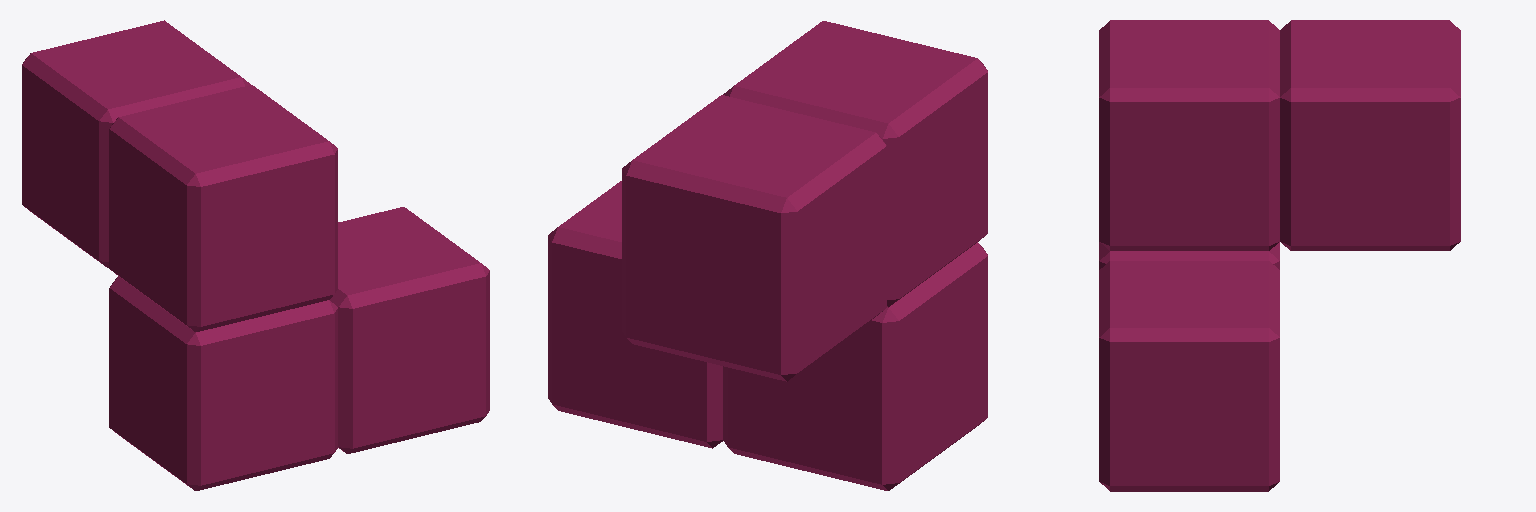
--- Facts derived from the render (not from the file) ---
The picture shows the robot from 3 angles, left to right: view 1: azimuth 30°, elevation 25°; view 2: azimuth 150°, elevation 25°; view 3: azimuth 270°, elevation 25°; orthographic projection.
Model obj_7 with 1 links and 0 joints (none), rooted at obj_7_link, posed all joints at 0.
Links seen in each view (by area): view 1: obj_7_link; view 2: obj_7_link; view 3: obj_7_link.
Link boxes in pixels (<box>): obj_7_link: <box>22,20,489,490</box>; obj_7_link: <box>548,21,987,490</box>; obj_7_link: <box>1099,20,1460,491</box>.
Size in the robot's own frame: 0.25 by 0.25 by 0.25 metres.
Meshes: 1 distinct files referenced, 1 mesh visuals loaded (1 OBJ).

URDF robot description (obj_7):
<robot name="obj_7" version="1.0">
  <link name="obj_7_link">
    <collision name="obj_7-collision.001">
      <origin rpy="-0.00000 1.57080 0.00000" xyz="-0.60798 0.77608 0.06454"/>
      <geometry>
        <mesh filename="../meshes/obj/obj_7-collision.001.obj" scale="1.00000 1.00000 1.00000"/>
      </geometry>
    </collision>
    <collision name="obj_7-collision.002">
      <origin rpy="-3.14159 0.00000 1.57080" xyz="-0.67048 0.77608 0.00204"/>
      <geometry>
        <mesh filename="../meshes/obj/obj_7-collision.002.obj" scale="1.00000 1.00000 1.00000"/>
      </geometry>
    </collision>
    <collision name="obj_7-collision.003">
      <origin rpy="2.35619 -0.00000 1.57080" xyz="-0.61173 0.77608 0.00579"/>
      <geometry>
        <mesh filename="../meshes/obj/obj_7-collision.003.obj" scale="1.00000 1.00000 1.00000"/>
      </geometry>
    </collision>
    <collision name="obj_7-collision.004">
      <origin rpy="-3.14159 -0.78540 1.57080" xyz="-0.67048 0.83483 0.00579"/>
      <geometry>
        <mesh filename="../meshes/obj/obj_7-collision.004.obj" scale="1.00000 1.00000 1.00000"/>
      </geometry>
    </collision>
    <collision name="obj_7-collision.005">
      <origin rpy="-2.35619 0.00000 1.57080" xyz="-0.72923 0.77608 0.00579"/>
      <geometry>
        <mesh filename="../meshes/obj/obj_7-collision.005.obj" scale="1.00000 1.00000 1.00000"/>
      </geometry>
    </collision>
    <collision name="obj_7-collision.006">
      <origin rpy="-3.14159 0.78540 1.57080" xyz="-0.67048 0.71733 0.00579"/>
      <geometry>
        <mesh filename="../meshes/obj/obj_7-collision.006.obj" scale="1.00000 1.00000 1.00000"/>
      </geometry>
    </collision>
    <collision name="obj_7-collision.007">
      <origin rpy="-1.57080 0.00000 -0.78540" xyz="-0.61173 0.83483 0.06454"/>
      <geometry>
        <mesh filename="../meshes/obj/obj_7-collision.007.obj" scale="1.00000 1.00000 1.00000"/>
      </geometry>
    </collision>
    <collision name="obj_7-collision.008">
      <origin rpy="-1.57080 0.00000 -0.00000" xyz="-0.67048 0.83858 0.06454"/>
      <geometry>
        <mesh filename="../meshes/obj/obj_7-collision.008.obj" scale="1.00000 1.00000 1.00000"/>
      </geometry>
    </collision>
    <collision name="obj_7-collision.009">
      <origin rpy="-1.57080 0.00000 0.78540" xyz="-0.72923 0.83483 0.06454"/>
      <geometry>
        <mesh filename="../meshes/obj/obj_7-collision.009.obj" scale="1.00000 1.00000 1.00000"/>
      </geometry>
    </collision>
    <collision name="obj_7-collision.010">
      <origin rpy="1.57080 0.00000 -0.78540" xyz="-0.72923 0.71733 0.06454"/>
      <geometry>
        <mesh filename="../meshes/obj/obj_7-collision.010.obj" scale="1.00000 1.00000 1.00000"/>
      </geometry>
    </collision>
    <collision name="obj_7-collision.011">
      <origin rpy="1.57080 0.00000 0.00000" xyz="-0.67048 0.71358 0.06454"/>
      <geometry>
        <mesh filename="../meshes/obj/obj_7-collision.011.obj" scale="1.00000 1.00000 1.00000"/>
      </geometry>
    </collision>
    <collision name="obj_7-collision.012">
      <origin rpy="1.57080 0.00000 0.78540" xyz="-0.61173 0.71733 0.06454"/>
      <geometry>
        <mesh filename="../meshes/obj/obj_7-collision.012.obj" scale="1.00000 1.00000 1.00000"/>
      </geometry>
    </collision>
    <collision name="obj_7-collision.013">
      <origin rpy="-0.78540 0.00000 -1.57080" xyz="-0.61173 0.77608 0.12329"/>
      <geometry>
        <mesh filename="../meshes/obj/obj_7-collision.013.obj" scale="1.00000 1.00000 1.00000"/>
      </geometry>
    </collision>
    <collision name="obj_7-collision.014">
      <origin rpy="-0.00000 -0.78540 -1.57080" xyz="-0.67048 0.83483 0.12329"/>
      <geometry>
        <mesh filename="../meshes/obj/obj_7-collision.014.obj" scale="1.00000 1.00000 1.00000"/>
      </geometry>
    </collision>
    <collision name="obj_7-collision.015">
      <origin rpy="0.78540 -0.00000 -1.57080" xyz="-0.72923 0.77608 0.12329"/>
      <geometry>
        <mesh filename="../meshes/obj/obj_7-collision.015.obj" scale="1.00000 1.00000 1.00000"/>
      </geometry>
    </collision>
    <collision name="obj_7-collision.016">
      <origin rpy="-0.00000 0.78540 -1.57080" xyz="-0.67048 0.71733 0.12329"/>
      <geometry>
        <mesh filename="../meshes/obj/obj_7-collision.016.obj" scale="1.00000 1.00000 1.00000"/>
      </geometry>
    </collision>
    <collision name="obj_7-collision.017">
      <origin rpy="0.00000 -0.00000 3.14159" xyz="-0.67048 0.77608 0.12704"/>
      <geometry>
        <mesh filename="../meshes/obj/obj_7-collision.017.obj" scale="1.00000 1.00000 1.00000"/>
      </geometry>
    </collision>
    <collision name="obj_7-collision.018">
      <origin rpy="-3.14159 0.00000 1.57080" xyz="-0.79548 0.77608 0.00204"/>
      <geometry>
        <mesh filename="../meshes/obj/obj_7-collision.018.obj" scale="1.00000 1.00000 1.00000"/>
      </geometry>
    </collision>
    <collision name="obj_7-collision.019">
      <origin rpy="-3.14159 -0.78540 1.57080" xyz="-0.79548 0.83483 0.00579"/>
      <geometry>
        <mesh filename="../meshes/obj/obj_7-collision.019.obj" scale="1.00000 1.00000 1.00000"/>
      </geometry>
    </collision>
    <collision name="obj_7-collision.020">
      <origin rpy="2.35619 -0.00000 1.57080" xyz="-0.73673 0.77608 0.00579"/>
      <geometry>
        <mesh filename="../meshes/obj/obj_7-collision.020.obj" scale="1.00000 1.00000 1.00000"/>
      </geometry>
    </collision>
    <collision name="obj_7-collision.021">
      <origin rpy="-3.14159 0.78540 1.57080" xyz="-0.79548 0.71733 0.00579"/>
      <geometry>
        <mesh filename="../meshes/obj/obj_7-collision.021.obj" scale="1.00000 1.00000 1.00000"/>
      </geometry>
    </collision>
    <collision name="obj_7-collision.022">
      <origin rpy="-2.35619 -0.00000 1.57080" xyz="-0.85423 0.77608 0.00579"/>
      <geometry>
        <mesh filename="../meshes/obj/obj_7-collision.022.obj" scale="1.00000 1.00000 1.00000"/>
      </geometry>
    </collision>
    <collision name="obj_7-collision.023">
      <origin rpy="1.57080 0.00000 0.00000" xyz="-0.79548 0.71358 0.06454"/>
      <geometry>
        <mesh filename="../meshes/obj/obj_7-collision.023.obj" scale="1.00000 1.00000 1.00000"/>
      </geometry>
    </collision>
    <collision name="obj_7-collision.024">
      <origin rpy="2.35619 -1.57080 0.00000" xyz="-0.73673 0.71733 0.06454"/>
      <geometry>
        <mesh filename="../meshes/obj/obj_7-collision.024.obj" scale="1.00000 1.00000 1.00000"/>
      </geometry>
    </collision>
    <collision name="obj_7-collision.025">
      <origin rpy="-1.57080 0.00000 -0.78540" xyz="-0.73673 0.83483 0.06454"/>
      <geometry>
        <mesh filename="../meshes/obj/obj_7-collision.025.obj" scale="1.00000 1.00000 1.00000"/>
      </geometry>
    </collision>
    <collision name="obj_7-collision.026">
      <origin rpy="-1.57080 0.00000 -0.00000" xyz="-0.79548 0.83858 0.06454"/>
      <geometry>
        <mesh filename="../meshes/obj/obj_7-collision.026.obj" scale="1.00000 1.00000 1.00000"/>
      </geometry>
    </collision>
    <collision name="obj_7-collision.027">
      <origin rpy="-1.57080 0.00000 0.78540" xyz="-0.85423 0.83483 0.06454"/>
      <geometry>
        <mesh filename="../meshes/obj/obj_7-collision.027.obj" scale="1.00000 1.00000 1.00000"/>
      </geometry>
    </collision>
    <collision name="obj_7-collision.028">
      <origin rpy="0.00000 -1.57080 0.00000" xyz="-0.85798 0.77608 0.06454"/>
      <geometry>
        <mesh filename="../meshes/obj/obj_7-collision.028.obj" scale="1.00000 1.00000 1.00000"/>
      </geometry>
    </collision>
    <collision name="obj_7-collision.029">
      <origin rpy="-1.57080 -0.00000 2.35619" xyz="-0.85423 0.71733 0.06454"/>
      <geometry>
        <mesh filename="../meshes/obj/obj_7-collision.029.obj" scale="1.00000 1.00000 1.00000"/>
      </geometry>
    </collision>
    <collision name="obj_7-collision.030">
      <origin rpy="-0.00000 0.78540 -1.57080" xyz="-0.79548 0.71733 0.12329"/>
      <geometry>
        <mesh filename="../meshes/obj/obj_7-collision.030.obj" scale="1.00000 1.00000 1.00000"/>
      </geometry>
    </collision>
    <collision name="obj_7-collision.031">
      <origin rpy="-0.78540 0.00000 -1.57080" xyz="-0.73673 0.77608 0.12329"/>
      <geometry>
        <mesh filename="../meshes/obj/obj_7-collision.031.obj" scale="1.00000 1.00000 1.00000"/>
      </geometry>
    </collision>
    <collision name="obj_7-collision.032">
      <origin rpy="-0.00000 -0.78540 -1.57080" xyz="-0.79548 0.83483 0.12329"/>
      <geometry>
        <mesh filename="../meshes/obj/obj_7-collision.032.obj" scale="1.00000 1.00000 1.00000"/>
      </geometry>
    </collision>
    <collision name="obj_7-collision.033">
      <origin rpy="0.78540 -0.00000 -1.57080" xyz="-0.85423 0.77608 0.12329"/>
      <geometry>
        <mesh filename="../meshes/obj/obj_7-collision.033.obj" scale="1.00000 1.00000 1.00000"/>
      </geometry>
    </collision>
    <collision name="obj_7-collision.034">
      <origin rpy="-2.35619 0.00000 1.57080" xyz="-0.85423 0.77608 0.13079"/>
      <geometry>
        <mesh filename="../meshes/obj/obj_7-collision.034.obj" scale="1.00000 1.00000 1.00000"/>
      </geometry>
    </collision>
    <collision name="obj_7-collision.035">
      <origin rpy="-3.14159 0.78540 1.57080" xyz="-0.79548 0.71733 0.13079"/>
      <geometry>
        <mesh filename="../meshes/obj/obj_7-collision.035.obj" scale="1.00000 1.00000 1.00000"/>
      </geometry>
    </collision>
    <collision name="obj_7-collision.036">
      <origin rpy="2.35619 -0.00000 1.57080" xyz="-0.73673 0.77608 0.13079"/>
      <geometry>
        <mesh filename="../meshes/obj/obj_7-collision.036.obj" scale="1.00000 1.00000 1.00000"/>
      </geometry>
    </collision>
    <collision name="obj_7-collision.037">
      <origin rpy="-3.14159 -0.78540 1.57080" xyz="-0.79548 0.83483 0.13079"/>
      <geometry>
        <mesh filename="../meshes/obj/obj_7-collision.037.obj" scale="1.00000 1.00000 1.00000"/>
      </geometry>
    </collision>
    <collision name="obj_7-collision.038">
      <origin rpy="-0.00000 1.57080 0.00000" xyz="-0.73298 0.77608 0.18954"/>
      <geometry>
        <mesh filename="../meshes/obj/obj_7-collision.038.obj" scale="1.00000 1.00000 1.00000"/>
      </geometry>
    </collision>
    <collision name="obj_7-collision.039">
      <origin rpy="-1.57080 -0.00000 -0.78540" xyz="-0.73673 0.83483 0.18954"/>
      <geometry>
        <mesh filename="../meshes/obj/obj_7-collision.039.obj" scale="1.00000 1.00000 1.00000"/>
      </geometry>
    </collision>
    <collision name="obj_7-collision.040">
      <origin rpy="-1.57080 0.00000 0.78540" xyz="-0.85423 0.83483 0.18954"/>
      <geometry>
        <mesh filename="../meshes/obj/obj_7-collision.040.obj" scale="1.00000 1.00000 1.00000"/>
      </geometry>
    </collision>
    <collision name="obj_7-collision.041">
      <origin rpy="0.00000 -1.57080 0.00000" xyz="-0.85798 0.77608 0.18954"/>
      <geometry>
        <mesh filename="../meshes/obj/obj_7-collision.041.obj" scale="1.00000 1.00000 1.00000"/>
      </geometry>
    </collision>
    <collision name="obj_7-collision.042">
      <origin rpy="-1.57080 -0.00000 2.35619" xyz="-0.85423 0.71733 0.18954"/>
      <geometry>
        <mesh filename="../meshes/obj/obj_7-collision.042.obj" scale="1.00000 1.00000 1.00000"/>
      </geometry>
    </collision>
    <collision name="obj_7-collision.043">
      <origin rpy="1.57080 -1.57080 0.00000" xyz="-0.79548 0.71358 0.18954"/>
      <geometry>
        <mesh filename="../meshes/obj/obj_7-collision.043.obj" scale="1.00000 1.00000 1.00000"/>
      </geometry>
    </collision>
    <collision name="obj_7-collision.044">
      <origin rpy="2.35619 -1.57080 0.00000" xyz="-0.73673 0.71733 0.18954"/>
      <geometry>
        <mesh filename="../meshes/obj/obj_7-collision.044.obj" scale="1.00000 1.00000 1.00000"/>
      </geometry>
    </collision>
    <collision name="obj_7-collision.045">
      <origin rpy="-0.78540 0.00000 -1.57080" xyz="-0.73673 0.77608 0.24829"/>
      <geometry>
        <mesh filename="../meshes/obj/obj_7-collision.045.obj" scale="1.00000 1.00000 1.00000"/>
      </geometry>
    </collision>
    <collision name="obj_7-collision.046">
      <origin rpy="-0.00000 0.78540 -1.57080" xyz="-0.79548 0.71733 0.24829"/>
      <geometry>
        <mesh filename="../meshes/obj/obj_7-collision.046.obj" scale="1.00000 1.00000 1.00000"/>
      </geometry>
    </collision>
    <collision name="obj_7-collision.047">
      <origin rpy="0.78540 -0.00000 -1.57080" xyz="-0.85423 0.77608 0.24829"/>
      <geometry>
        <mesh filename="../meshes/obj/obj_7-collision.047.obj" scale="1.00000 1.00000 1.00000"/>
      </geometry>
    </collision>
    <collision name="obj_7-collision.048">
      <origin rpy="-0.00000 -0.78540 -1.57080" xyz="-0.79548 0.83483 0.24829"/>
      <geometry>
        <mesh filename="../meshes/obj/obj_7-collision.048.obj" scale="1.00000 1.00000 1.00000"/>
      </geometry>
    </collision>
    <collision name="obj_7-collision.049">
      <origin rpy="0.00000 -0.00000 3.14159" xyz="-0.79548 0.77608 0.25204"/>
      <geometry>
        <mesh filename="../meshes/obj/obj_7-collision.049.obj" scale="1.00000 1.00000 1.00000"/>
      </geometry>
    </collision>
    <collision name="obj_7-collision.050">
      <origin rpy="-0.00000 0.00000 -1.57080" xyz="-0.79548 0.90108 0.25204"/>
      <geometry>
        <mesh filename="../meshes/obj/obj_7-collision.050.obj" scale="1.00000 1.00000 1.00000"/>
      </geometry>
    </collision>
    <collision name="obj_7-collision.051">
      <origin rpy="-0.00000 0.78540 -1.57080" xyz="-0.79548 0.84233 0.24829"/>
      <geometry>
        <mesh filename="../meshes/obj/obj_7-collision.051.obj" scale="1.00000 1.00000 1.00000"/>
      </geometry>
    </collision>
    <collision name="obj_7-collision.052">
      <origin rpy="0.00000 -0.78540 3.14159" xyz="-0.73673 0.90108 0.24829"/>
      <geometry>
        <mesh filename="../meshes/obj/obj_7-collision.052.obj" scale="1.00000 1.00000 1.00000"/>
      </geometry>
    </collision>
    <collision name="obj_7-collision.053">
      <origin rpy="-0.00000 -0.78540 -1.57080" xyz="-0.79548 0.95983 0.24829"/>
      <geometry>
        <mesh filename="../meshes/obj/obj_7-collision.053.obj" scale="1.00000 1.00000 1.00000"/>
      </geometry>
    </collision>
    <collision name="obj_7-collision.054">
      <origin rpy="0.78540 -0.00000 -1.57080" xyz="-0.85423 0.90108 0.24829"/>
      <geometry>
        <mesh filename="../meshes/obj/obj_7-collision.054.obj" scale="1.00000 1.00000 1.00000"/>
      </geometry>
    </collision>
    <collision name="obj_7-collision.055">
      <origin rpy="-1.57080 0.00000 -0.00000" xyz="-0.79548 0.96358 0.18954"/>
      <geometry>
        <mesh filename="../meshes/obj/obj_7-collision.055.obj" scale="1.00000 1.00000 1.00000"/>
      </geometry>
    </collision>
    <collision name="obj_7-collision.056">
      <origin rpy="0.00000 -1.57080 0.00000" xyz="-0.85798 0.90108 0.18954"/>
      <geometry>
        <mesh filename="../meshes/obj/obj_7-collision.056.obj" scale="1.00000 1.00000 1.00000"/>
      </geometry>
    </collision>
    <collision name="obj_7-collision.057">
      <origin rpy="-0.78540 -1.57080 0.00000" xyz="-0.85423 0.95983 0.18954"/>
      <geometry>
        <mesh filename="../meshes/obj/obj_7-collision.057.obj" scale="1.00000 1.00000 1.00000"/>
      </geometry>
    </collision>
    <collision name="obj_7-collision.058">
      <origin rpy="1.57080 0.00000 -0.78540" xyz="-0.85423 0.84233 0.18954"/>
      <geometry>
        <mesh filename="../meshes/obj/obj_7-collision.058.obj" scale="1.00000 1.00000 1.00000"/>
      </geometry>
    </collision>
    <collision name="obj_7-collision.059">
      <origin rpy="1.57080 0.00000 0.78540" xyz="-0.73673 0.84233 0.18954"/>
      <geometry>
        <mesh filename="../meshes/obj/obj_7-collision.059.obj" scale="1.00000 1.00000 1.00000"/>
      </geometry>
    </collision>
    <collision name="obj_7-collision.060">
      <origin rpy="1.57080 0.00000 1.57080" xyz="-0.73298 0.90108 0.18954"/>
      <geometry>
        <mesh filename="../meshes/obj/obj_7-collision.060.obj" scale="1.00000 1.00000 1.00000"/>
      </geometry>
    </collision>
    <collision name="obj_7-collision.061">
      <origin rpy="-2.35619 -1.57080 0.00000" xyz="-0.73673 0.95983 0.18954"/>
      <geometry>
        <mesh filename="../meshes/obj/obj_7-collision.061.obj" scale="1.00000 1.00000 1.00000"/>
      </geometry>
    </collision>
    <collision name="obj_7-collision.062">
      <origin rpy="2.35619 -0.00000 1.57080" xyz="-0.73673 0.90108 0.13079"/>
      <geometry>
        <mesh filename="../meshes/obj/obj_7-collision.062.obj" scale="1.00000 1.00000 1.00000"/>
      </geometry>
    </collision>
    <collision name="obj_7-collision.063">
      <origin rpy="-3.14159 -0.78540 1.57080" xyz="-0.79548 0.95983 0.13079"/>
      <geometry>
        <mesh filename="../meshes/obj/obj_7-collision.063.obj" scale="1.00000 1.00000 1.00000"/>
      </geometry>
    </collision>
    <collision name="obj_7-collision.064">
      <origin rpy="-2.35619 0.00000 1.57080" xyz="-0.85423 0.90108 0.13079"/>
      <geometry>
        <mesh filename="../meshes/obj/obj_7-collision.064.obj" scale="1.00000 1.00000 1.00000"/>
      </geometry>
    </collision>
    <collision name="obj_7-collision.065">
      <origin rpy="-3.14159 0.78540 1.57080" xyz="-0.79548 0.84233 0.13079"/>
      <geometry>
        <mesh filename="../meshes/obj/obj_7-collision.065.obj" scale="1.00000 1.00000 1.00000"/>
      </geometry>
    </collision>
    <collision name="obj_7-collision.066">
      <origin rpy="-3.14159 0.00000 1.57080" xyz="-0.79548 0.90108 0.12704"/>
      <geometry>
        <mesh filename="../meshes/obj/obj_7-collision.066.obj" scale="1.00000 1.00000 1.00000"/>
      </geometry>
    </collision>
    <collision name="obj_7-collision.067">
      <origin rpy="-0.00000 1.57080 0.00000" xyz="-0.76275 0.80882 0.12704"/>
      <geometry>
        <mesh filename="../meshes/obj/obj_7-collision.067.obj" scale="0.00500 0.00500 0.00500"/>
      </geometry>
    </collision>
    <collision name="obj_7-collision.068">
      <origin rpy="-0.00000 1.57080 0.00000" xyz="-0.76275 0.80882 0.12704"/>
      <geometry>
        <mesh filename="../meshes/obj/obj_7-collision.068.obj" scale="0.00500 0.00500 0.00500"/>
      </geometry>
    </collision>
    <collision name="obj_7-collision.069">
      <origin rpy="-0.00000 1.57080 0.00000" xyz="-0.76275 0.80882 0.12704"/>
      <geometry>
        <mesh filename="../meshes/obj/obj_7-collision.069.obj" scale="0.00500 0.00500 0.00500"/>
      </geometry>
    </collision>
    <collision name="obj_7-collision.070">
      <origin rpy="-0.00000 1.57080 0.00000" xyz="-0.76275 0.80882 0.12704"/>
      <geometry>
        <mesh filename="../meshes/obj/obj_7-collision.070.obj" scale="0.00500 0.00500 0.00500"/>
      </geometry>
    </collision>
    <collision name="obj_7-collision.071">
      <origin rpy="-0.00000 1.57080 0.00000" xyz="-0.76275 0.80882 0.12704"/>
      <geometry>
        <mesh filename="../meshes/obj/obj_7-collision.071.obj" scale="0.00500 0.00500 0.00500"/>
      </geometry>
    </collision>
    <collision name="obj_7-collision.072">
      <origin rpy="-0.00000 1.57080 0.00000" xyz="-0.76275 0.80882 0.12704"/>
      <geometry>
        <mesh filename="../meshes/obj/obj_7-collision.072.obj" scale="0.00500 0.00500 0.00500"/>
      </geometry>
    </collision>
    <collision name="obj_7-collision.073">
      <origin rpy="-0.00000 1.57080 0.00000" xyz="-0.76275 0.80882 0.12704"/>
      <geometry>
        <mesh filename="../meshes/obj/obj_7-collision.073.obj" scale="0.00500 0.00500 0.00500"/>
      </geometry>
    </collision>
    <collision name="obj_7-collision.074">
      <origin rpy="-0.00000 1.57080 0.00000" xyz="-0.76275 0.80882 0.12704"/>
      <geometry>
        <mesh filename="../meshes/obj/obj_7-collision.074.obj" scale="0.00500 0.00500 0.00500"/>
      </geometry>
    </collision>
    <collision name="obj_7-collision.075">
      <origin rpy="-0.00000 1.57080 0.00000" xyz="-0.76275 0.80882 0.12704"/>
      <geometry>
        <mesh filename="../meshes/obj/obj_7-collision.075.obj" scale="0.00500 0.00500 0.00500"/>
      </geometry>
    </collision>
    <collision name="obj_7-collision.076">
      <origin rpy="-0.00000 1.57080 0.00000" xyz="-0.76275 0.80882 0.12704"/>
      <geometry>
        <mesh filename="../meshes/obj/obj_7-collision.076.obj" scale="0.00500 0.00500 0.00500"/>
      </geometry>
    </collision>
    <collision name="obj_7-collision.077">
      <origin rpy="-0.00000 1.57080 0.00000" xyz="-0.76275 0.80882 0.12704"/>
      <geometry>
        <mesh filename="../meshes/obj/obj_7-collision.077.obj" scale="0.00500 0.00500 0.00500"/>
      </geometry>
    </collision>
    <collision name="obj_7-collision.078">
      <origin rpy="-0.00000 1.57080 0.00000" xyz="-0.76275 0.80882 0.12704"/>
      <geometry>
        <mesh filename="../meshes/obj/obj_7-collision.078.obj" scale="0.00500 0.00500 0.00500"/>
      </geometry>
    </collision>
    <collision name="obj_7-collision.079">
      <origin rpy="-0.00000 1.57080 0.00000" xyz="-0.76275 0.80882 0.12704"/>
      <geometry>
        <mesh filename="../meshes/obj/obj_7-collision.079.obj" scale="0.00500 0.00500 0.00500"/>
      </geometry>
    </collision>
    <collision name="obj_7-collision.080">
      <origin rpy="-0.00000 1.57080 0.00000" xyz="-0.76275 0.80882 0.12704"/>
      <geometry>
        <mesh filename="../meshes/obj/obj_7-collision.080.obj" scale="0.00500 0.00500 0.00500"/>
      </geometry>
    </collision>
    <collision name="obj_7-collision.081">
      <origin rpy="-0.00000 1.57080 0.00000" xyz="-0.76275 0.80882 0.12704"/>
      <geometry>
        <mesh filename="../meshes/obj/obj_7-collision.081.obj" scale="0.00500 0.00500 0.00500"/>
      </geometry>
    </collision>
    <collision name="obj_7-collision.082">
      <origin rpy="-0.00000 1.57080 0.00000" xyz="-0.76275 0.80882 0.12704"/>
      <geometry>
        <mesh filename="../meshes/obj/obj_7-collision.082.obj" scale="0.00500 0.00500 0.00500"/>
      </geometry>
    </collision>
    <collision name="obj_7-collision.083">
      <origin rpy="-0.00000 1.57080 0.00000" xyz="-0.76275 0.80882 0.12704"/>
      <geometry>
        <mesh filename="../meshes/obj/obj_7-collision.083.obj" scale="0.00500 0.00500 0.00500"/>
      </geometry>
    </collision>
    <collision name="obj_7-collision.084">
      <origin rpy="-0.00000 1.57080 0.00000" xyz="-0.76275 0.80882 0.12704"/>
      <geometry>
        <mesh filename="../meshes/obj/obj_7-collision.084.obj" scale="0.00500 0.00500 0.00500"/>
      </geometry>
    </collision>
    <collision name="obj_7-collision.085">
      <origin rpy="-0.00000 1.57080 0.00000" xyz="-0.76275 0.80882 0.12704"/>
      <geometry>
        <mesh filename="../meshes/obj/obj_7-collision.085.obj" scale="0.00500 0.00500 0.00500"/>
      </geometry>
    </collision>
    <collision name="obj_7-collision.086">
      <origin rpy="-0.00000 1.57080 0.00000" xyz="-0.76275 0.80882 0.12704"/>
      <geometry>
        <mesh filename="../meshes/obj/obj_7-collision.086.obj" scale="0.00500 0.00500 0.00500"/>
      </geometry>
    </collision>
    <collision name="obj_7-collision.087">
      <origin rpy="-0.00000 1.57080 0.00000" xyz="-0.76275 0.80882 0.12704"/>
      <geometry>
        <mesh filename="../meshes/obj/obj_7-collision.087.obj" scale="0.00500 0.00500 0.00500"/>
      </geometry>
    </collision>
    <collision name="obj_7-collision.088">
      <origin rpy="-0.00000 1.57080 0.00000" xyz="-0.76275 0.80882 0.12704"/>
      <geometry>
        <mesh filename="../meshes/obj/obj_7-collision.088.obj" scale="0.00500 0.00500 0.00500"/>
      </geometry>
    </collision>
    <collision name="obj_7-collision.089">
      <origin rpy="-0.00000 1.57080 0.00000" xyz="-0.76275 0.80882 0.12704"/>
      <geometry>
        <mesh filename="../meshes/obj/obj_7-collision.089.obj" scale="0.00500 0.00500 0.00500"/>
      </geometry>
    </collision>
    <collision name="obj_7-collision.090">
      <origin rpy="-0.00000 1.57080 0.00000" xyz="-0.76275 0.80882 0.12704"/>
      <geometry>
        <mesh filename="../meshes/obj/obj_7-collision.090.obj" scale="0.00500 0.00500 0.00500"/>
      </geometry>
    </collision>
    <collision name="obj_7-collision.091">
      <origin rpy="-0.00000 1.57080 0.00000" xyz="-0.76275 0.80882 0.12704"/>
      <geometry>
        <mesh filename="../meshes/obj/obj_7-collision.091.obj" scale="0.00500 0.00500 0.00500"/>
      </geometry>
    </collision>
    <collision name="obj_7-collision.092">
      <origin rpy="-0.00000 1.57080 0.00000" xyz="-0.76275 0.80882 0.12704"/>
      <geometry>
        <mesh filename="../meshes/obj/obj_7-collision.092.obj" scale="0.00500 0.00500 0.00500"/>
      </geometry>
    </collision>
    <collision name="obj_7-collision.093">
      <origin rpy="-0.00000 1.57080 0.00000" xyz="-0.76275 0.80882 0.12704"/>
      <geometry>
        <mesh filename="../meshes/obj/obj_7-collision.093.obj" scale="0.00500 0.00500 0.00500"/>
      </geometry>
    </collision>
    <collision name="obj_7-collision.094">
      <origin rpy="-0.00000 1.57080 0.00000" xyz="-0.76275 0.80882 0.12704"/>
      <geometry>
        <mesh filename="../meshes/obj/obj_7-collision.094.obj" scale="0.00500 0.00500 0.00500"/>
      </geometry>
    </collision>
    <collision name="obj_7-collision.095">
      <origin rpy="-0.00000 1.57080 0.00000" xyz="-0.76275 0.80882 0.12704"/>
      <geometry>
        <mesh filename="../meshes/obj/obj_7-collision.095.obj" scale="0.00500 0.00500 0.00500"/>
      </geometry>
    </collision>
    <collision name="obj_7-collision.096">
      <origin rpy="-0.00000 1.57080 0.00000" xyz="-0.76275 0.80882 0.12704"/>
      <geometry>
        <mesh filename="../meshes/obj/obj_7-collision.096.obj" scale="0.00500 0.00500 0.00500"/>
      </geometry>
    </collision>
    <collision name="obj_7-collision.097">
      <origin rpy="-0.00000 1.57080 0.00000" xyz="-0.76275 0.80882 0.12704"/>
      <geometry>
        <mesh filename="../meshes/obj/obj_7-collision.097.obj" scale="0.00500 0.00500 0.00500"/>
      </geometry>
    </collision>
    <collision name="obj_7-collision.098">
      <origin rpy="-0.00000 1.57080 0.00000" xyz="-0.76275 0.80882 0.12704"/>
      <geometry>
        <mesh filename="../meshes/obj/obj_7-collision.098.obj" scale="0.00500 0.00500 0.00500"/>
      </geometry>
    </collision>
    <inertial>
      <inertia ixx="0.00047" ixy="0.00005" ixz="0.00010" iyy="0.00047" iyz="-0.00010" izz="0.00042"/>
      <origin rpy="0.00000 0.00000 0.00000" xyz="-0.76423 0.80733 0.12704"/>
      <mass value="0.05000"/>
    </inertial>
    <visual name="obj_7">
      <material name="turnarrow_reddish_purple"/>
      <origin rpy="-0.00000 1.57080 0.00000" xyz="-0.76275 0.80882 0.12704"/>
      <geometry>
        <mesh filename="../meshes/obj/bt_cube3x3_bricks.006.obj" scale="0.00500 0.00500 0.00500"/>
      </geometry>
    </visual>
  </link>
  <material name="turnarrow_reddish_purple">
    <color rgba="0.60000 0.18824 0.38431 1.00000"/>
  </material>
</robot>
